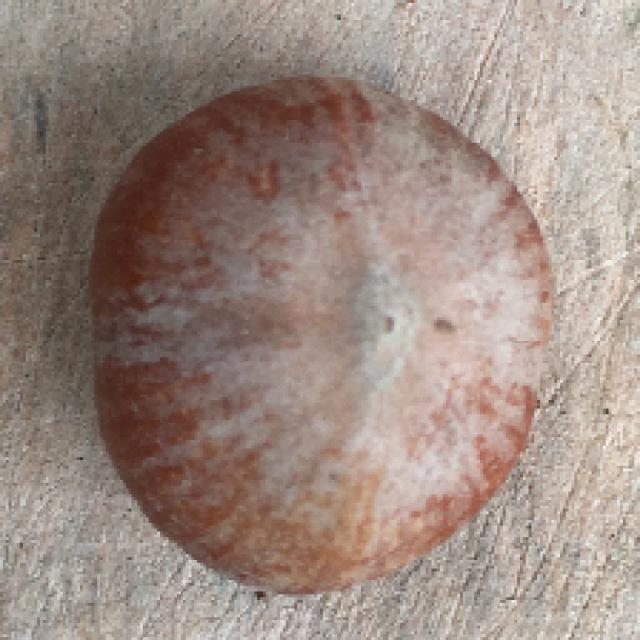QualityHazelnut: (86, 68, 556, 593)
